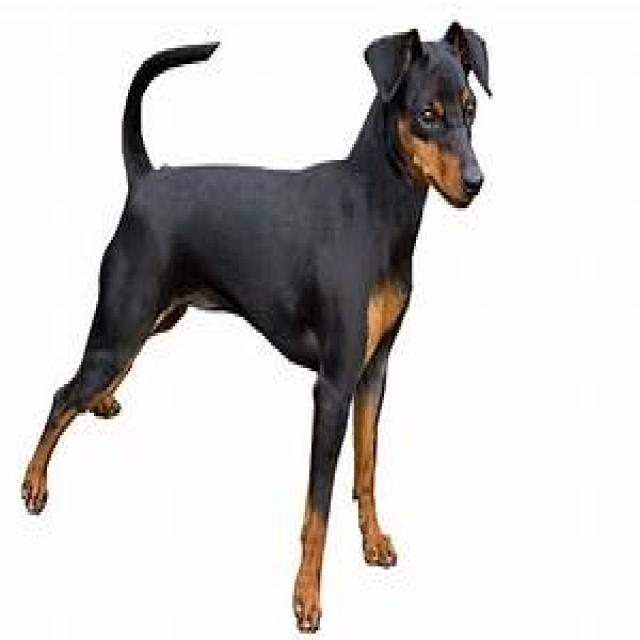dog: (22, 22, 489, 631)
